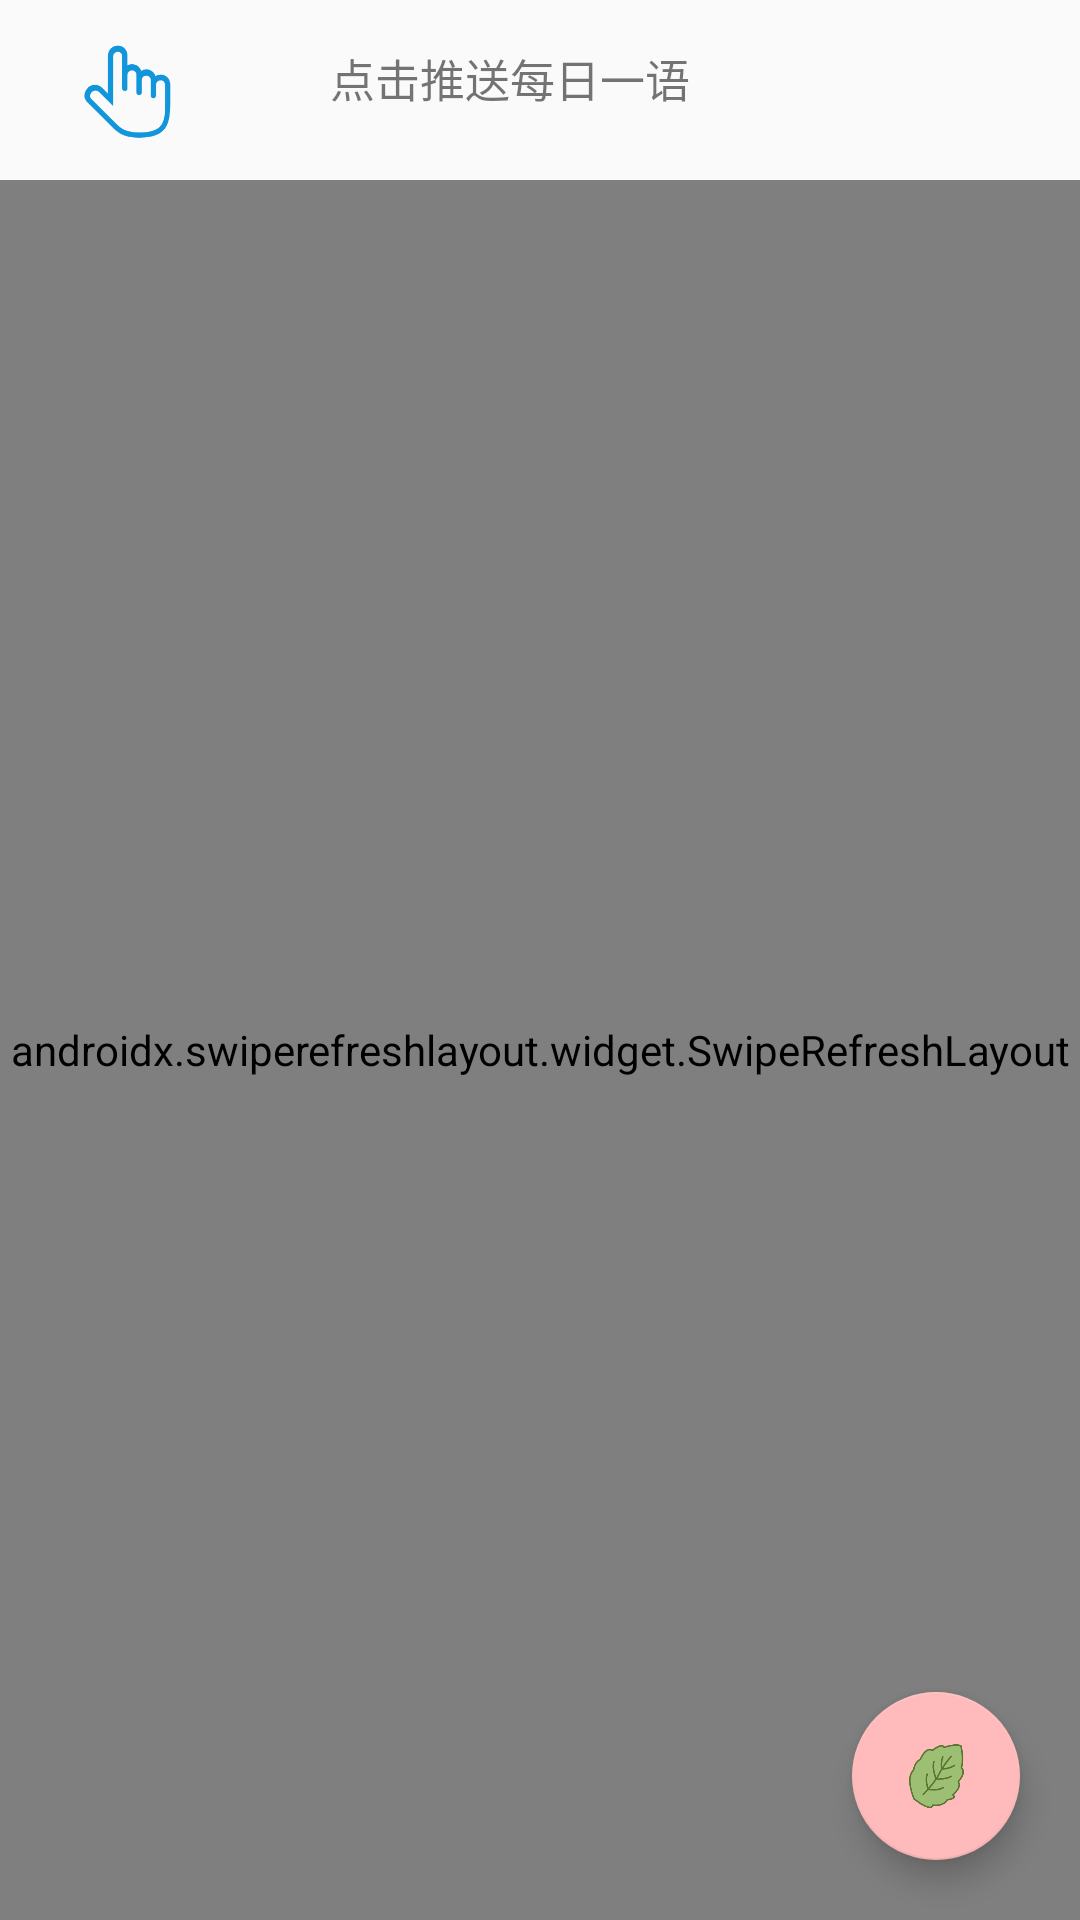

Named icons in this screenshot (1080 x 1920) and their centers, [x,y]:
click: [127,91]
